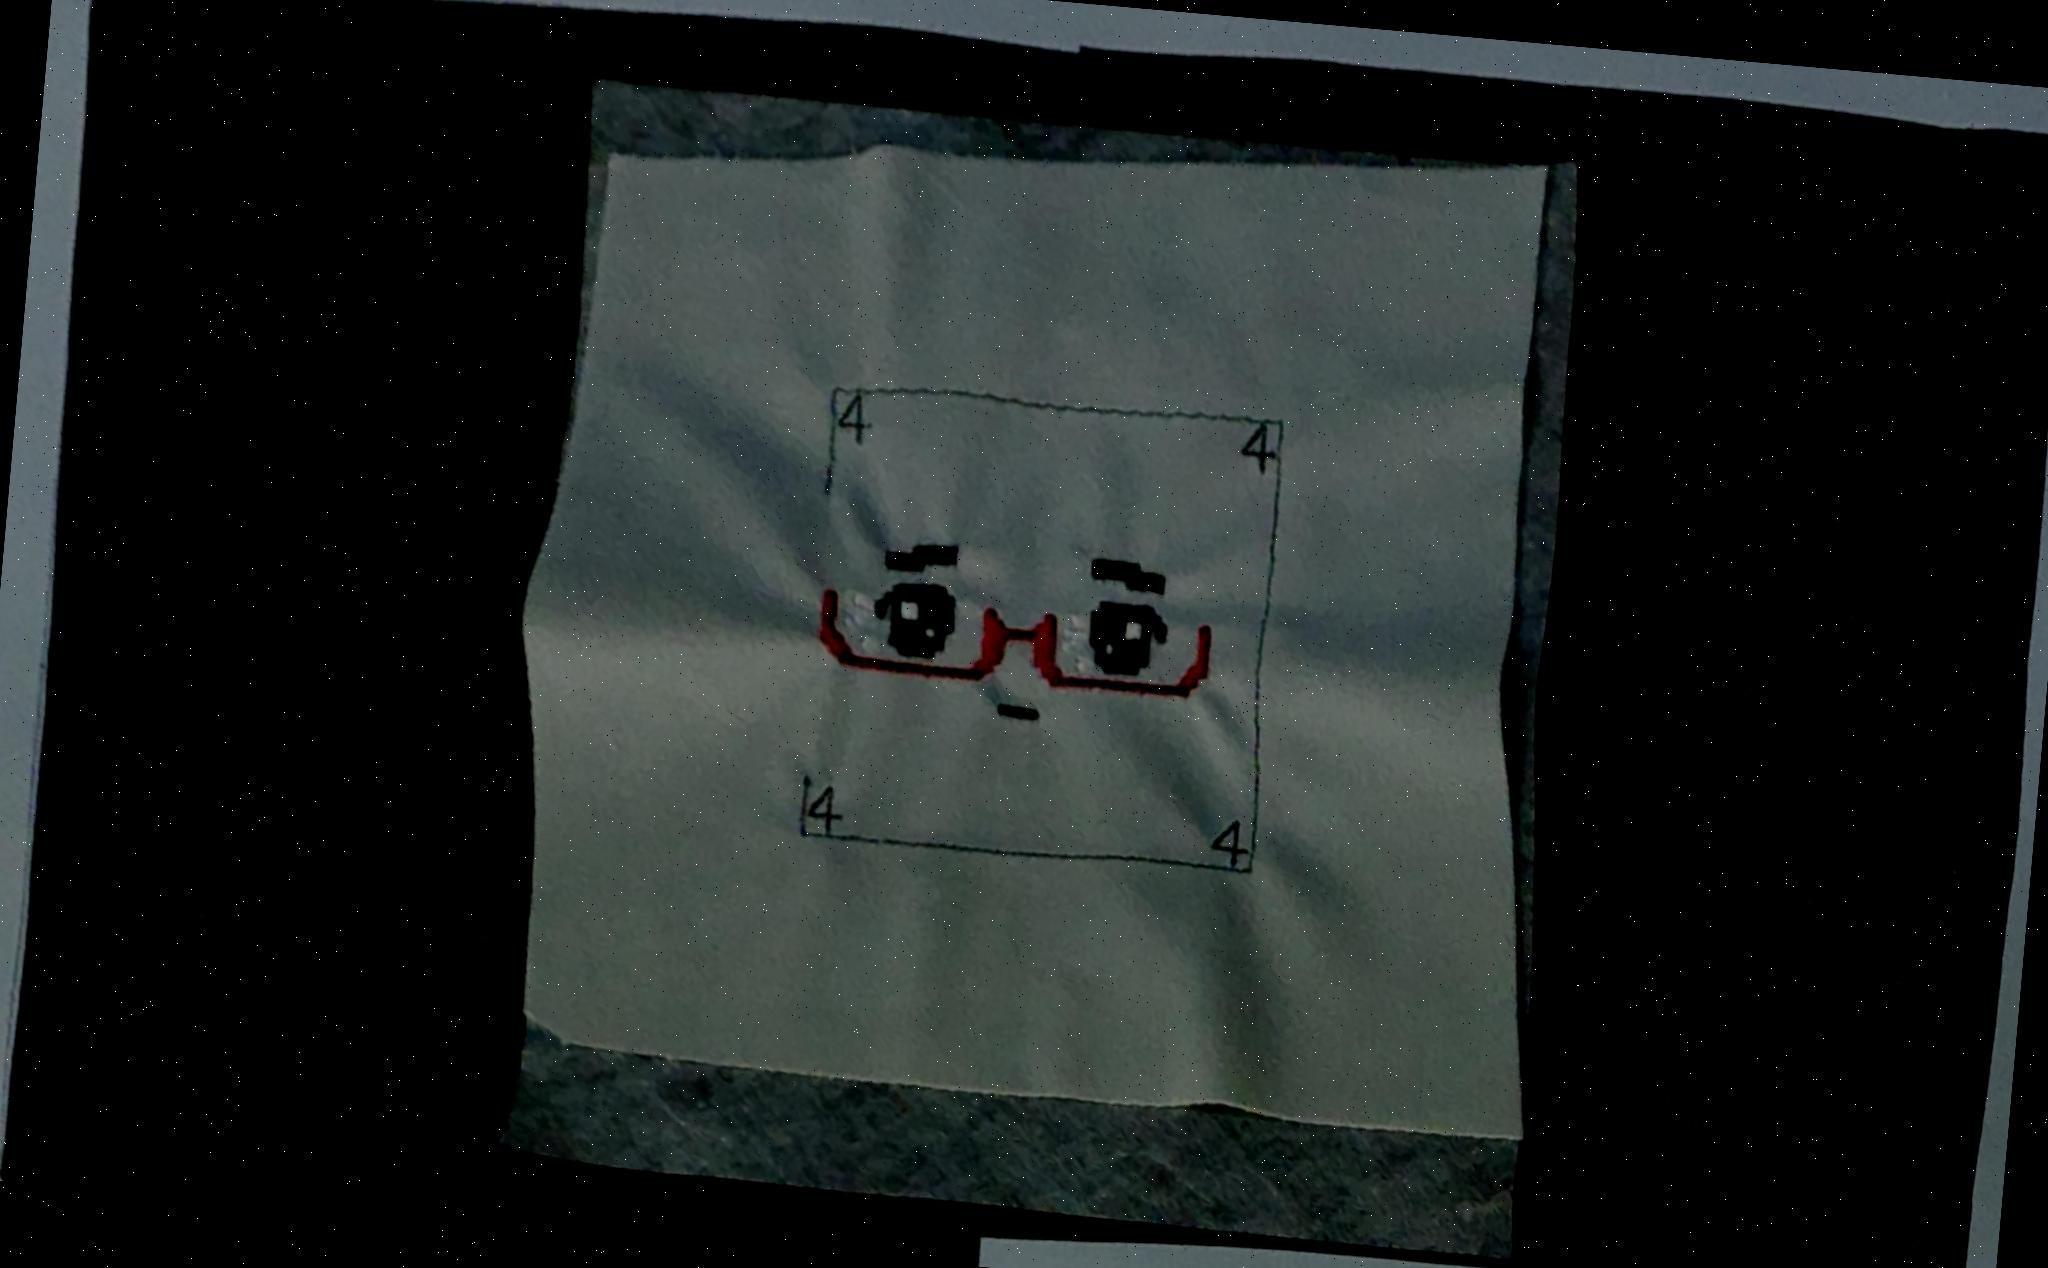objects: (459, 50, 1652, 1268)
